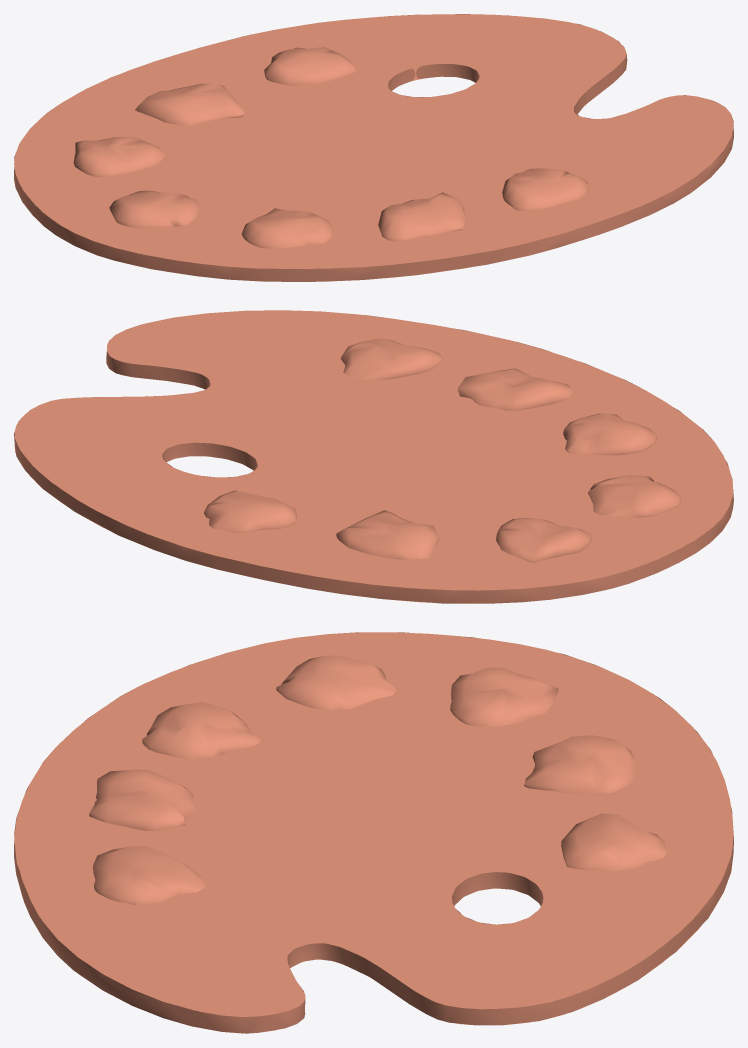
The model's file is palette_copper.gltf.
3 views of the same model, one above another, from view 1: azimuth 30°, elevation 25°; view 2: azimuth 150°, elevation 25°; view 3: azimuth 270°, elevation 25° (orthographic). The views are drawn at different scales.
Parts seen in each view (by area): view 1: Object_6; view 2: Object_6; view 3: Object_6.
Part boxes in pixels (box(x1,y1,x2,y2)): Object_6: box(14, 14, 733, 281); Object_6: box(14, 310, 733, 603); Object_6: box(14, 632, 733, 1033).
Size of the model in its own units: 15.09 by 0.5995 by 11.93.
Materials: 1 (1 with a texture image).
